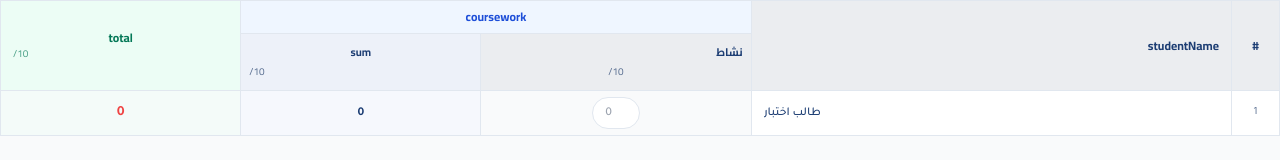
Test case: FollowupGradesTable input types (درجة/تحقق/نص) › grade column still renders a clamped numeric input
The image size is (1280, 160).
Type "99" into the number field at (616, 113), box left=592, top=97, right=640, bottom=129
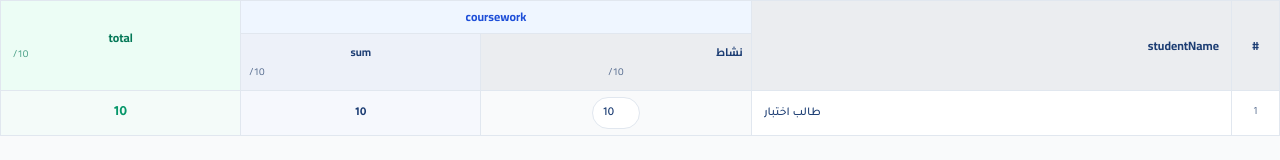
Expected: the number field holds "10", left=592, top=97, right=640, bottom=129
